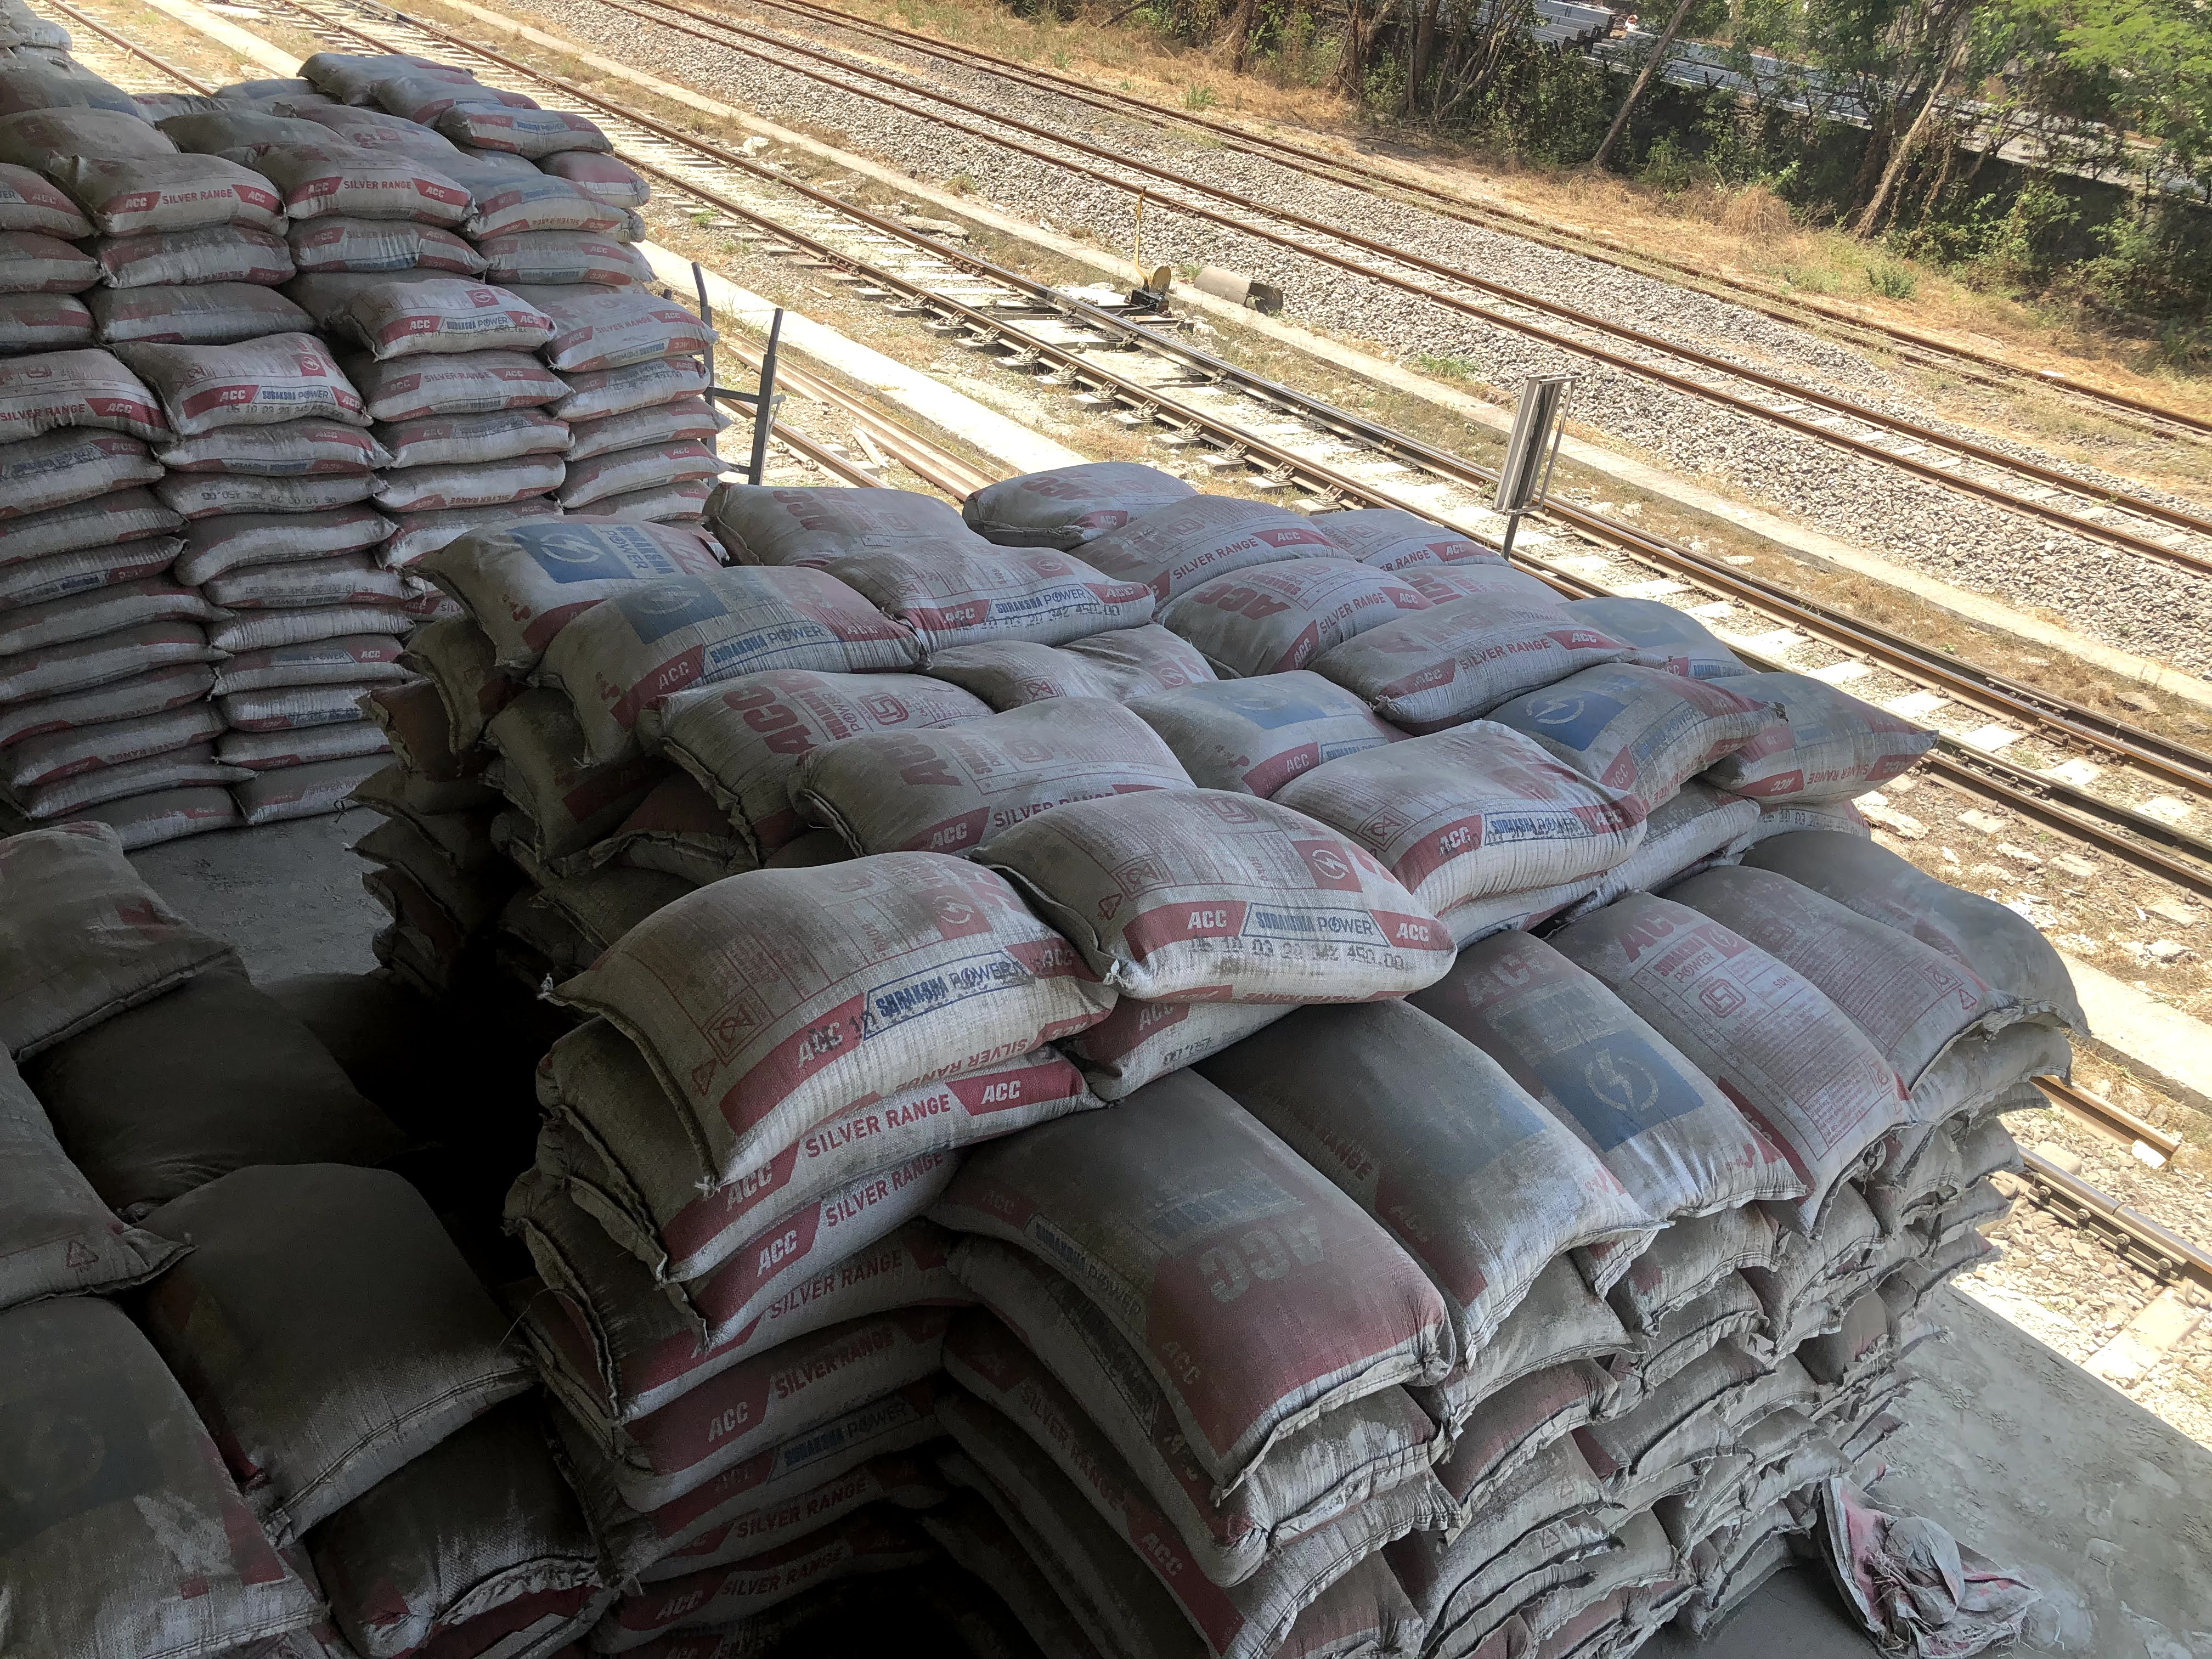cement bag: (590, 873, 1115, 1096), (995, 1127, 1399, 1375), (982, 805, 1449, 995), (134, 1185, 507, 1403), (1268, 997, 1592, 1246), (0, 1312, 275, 1605), (1461, 941, 1750, 1215), (1611, 889, 1878, 1155), (1768, 805, 2060, 1014), (1721, 859, 1972, 1079), (631, 680, 989, 826), (524, 551, 887, 688), (1280, 744, 1629, 887), (831, 690, 1183, 831), (646, 1326, 954, 1476), (73, 1039, 399, 1173), (1322, 587, 1604, 714), (329, 1474, 589, 1605), (7, 831, 195, 1009), (1498, 680, 1763, 805), (1158, 568, 1442, 676), (1146, 681, 1407, 796), (1735, 660, 1942, 800), (5, 1065, 145, 1269), (665, 1180, 965, 1274), (927, 612, 1190, 709), (726, 481, 996, 572), (451, 530, 742, 605), (127, 328, 352, 416), (1090, 505, 1350, 577), (1597, 587, 1766, 694), (310, 267, 529, 345), (974, 467, 1231, 528), (1332, 500, 1496, 587), (535, 282, 700, 356), (89, 159, 282, 214), (3, 364, 169, 427), (449, 96, 603, 162), (193, 516, 385, 568), (291, 160, 469, 214), (23, 105, 176, 166), (183, 429, 373, 477), (103, 281, 307, 326), (96, 234, 303, 277), (395, 474, 589, 519), (167, 469, 395, 507), (390, 415, 589, 458), (3, 613, 200, 657), (500, 227, 648, 284), (1451, 1317, 1635, 1363), (207, 687, 388, 732), (237, 762, 392, 814), (327, 52, 488, 103), (211, 612, 413, 652), (5, 441, 157, 493), (488, 188, 637, 239), (300, 223, 486, 263), (554, 373, 732, 415), (3, 521, 186, 561), (3, 732, 242, 762), (52, 814, 254, 845), (12, 577, 202, 610), (219, 725, 392, 758), (2, 295, 99, 352), (7, 697, 214, 723), (583, 416, 735, 451), (10, 657, 188, 687), (364, 366, 543, 392), (30, 774, 218, 796), (3, 239, 85, 286)
